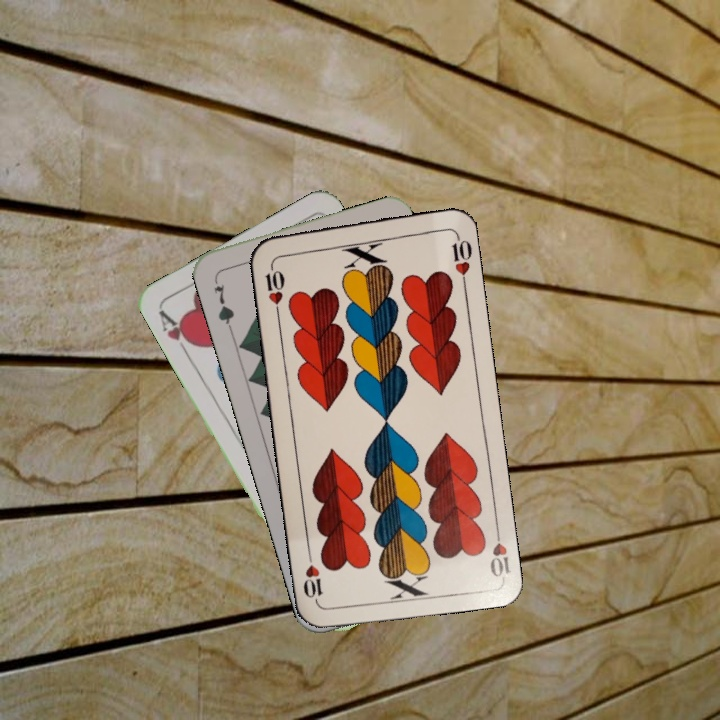G7: (209, 274, 237, 332)
H10: (486, 521, 513, 580), (261, 257, 287, 317)
HA: (154, 306, 199, 360)
